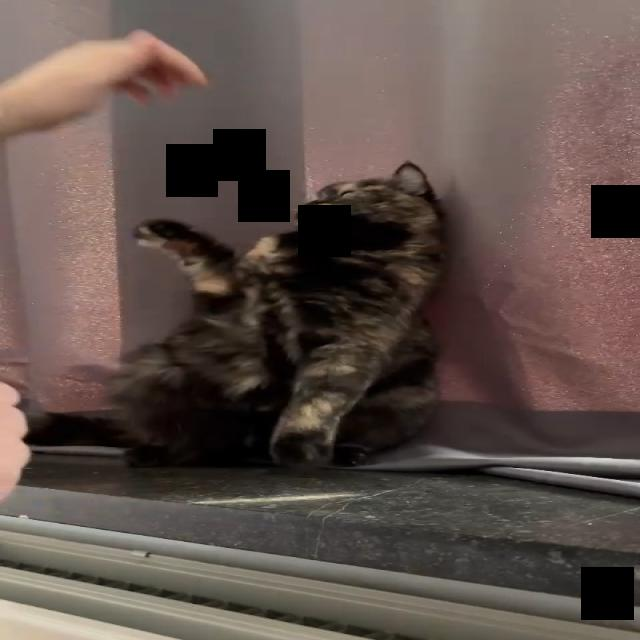authorized: (105, 160, 448, 469)
